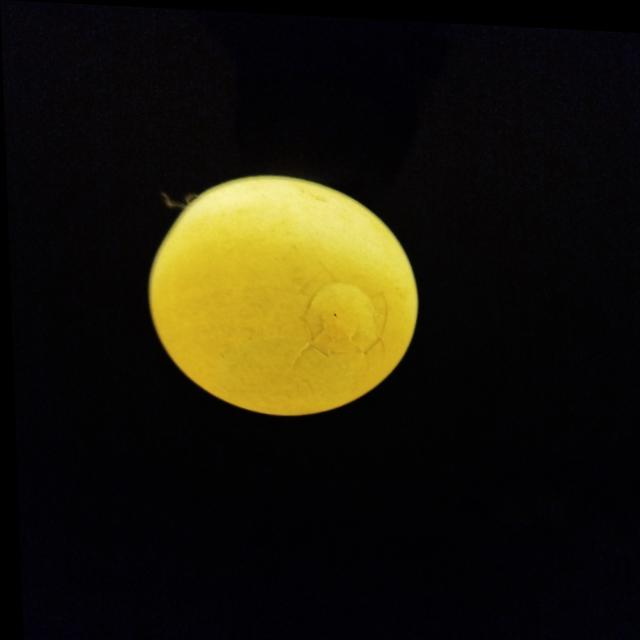Rachadura: (303, 279, 376, 353)
